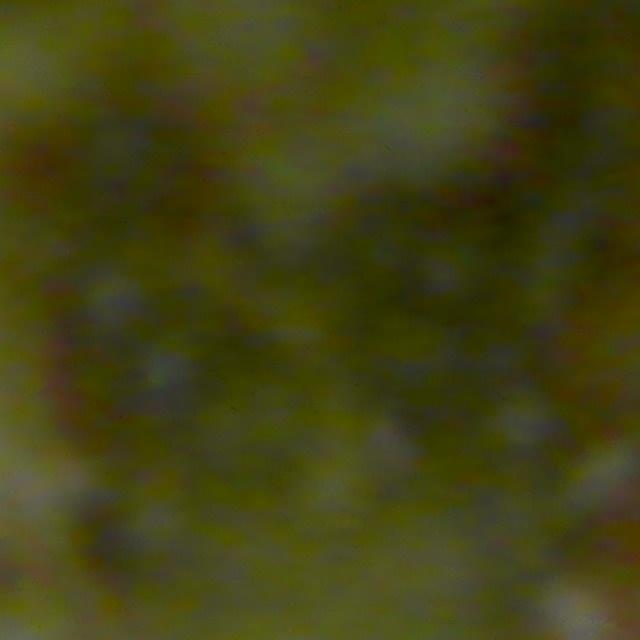SeaGrape: (564, 432, 640, 520), (486, 386, 566, 460), (539, 578, 627, 640)
